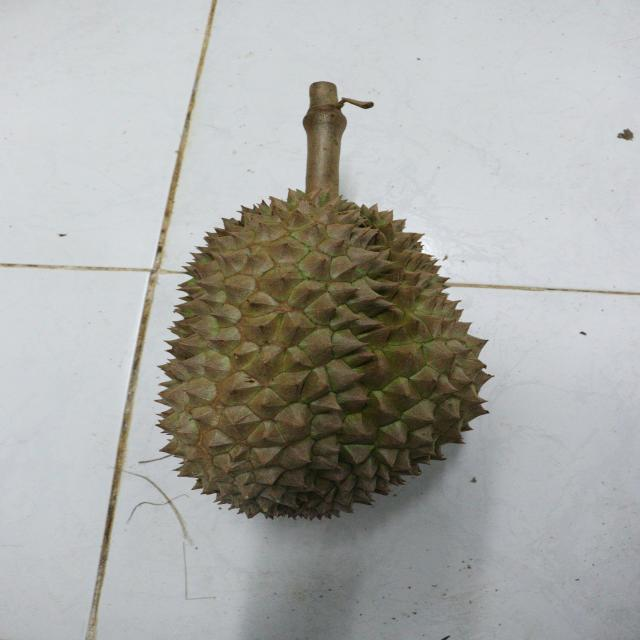mature: (152, 185, 498, 524)
